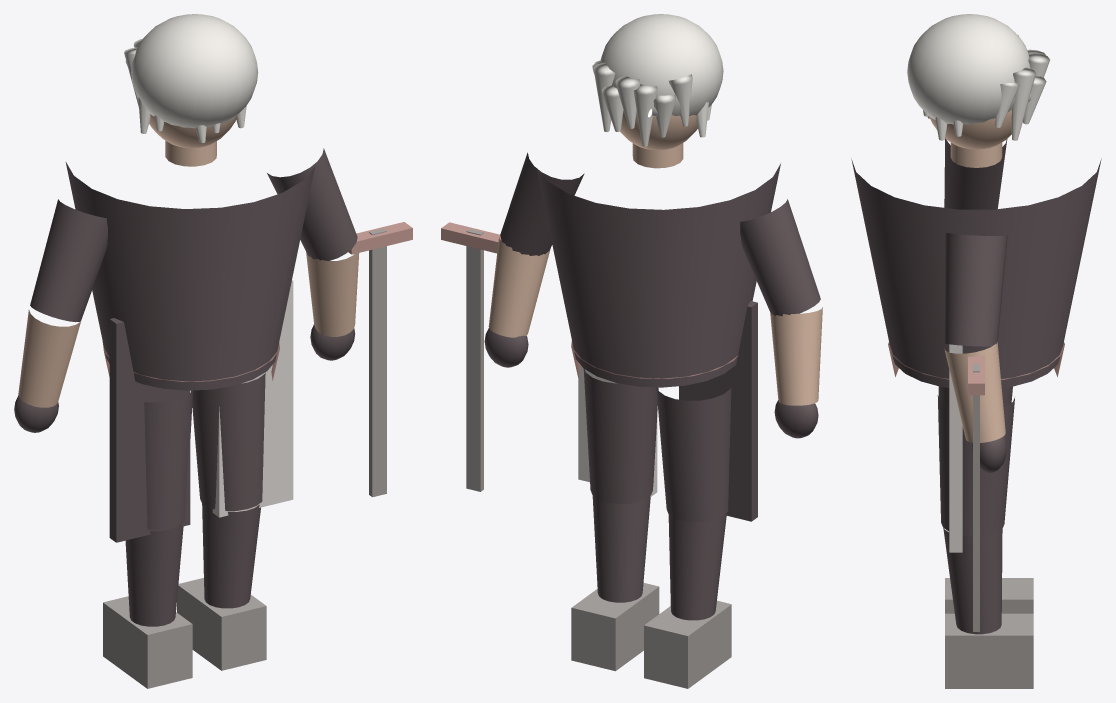
File: elaine-procedural-v1.glb
3 views of the same model, side by side, from view 1: azimuth 30°, elevation 25°; view 2: azimuth 150°, elevation 25°; view 3: azimuth 270°, elevation 25° (orthographic). The views are drawn at different scales.
Visible parts, largest first — view 1: Outfit_Torso, Hair_Cap, Outfit_CoatTail_L, Body_Thigh_R, Body_UpperArm_L, Outfit_CoatTail_R, Outfit_Boot_L, Body_Thigh_L, Outfit_Boot_R, Body_Shin_R, Body_Shin_L, Weapon_SwordBlade (+8 smaller); view 2: Outfit_Torso, Body_Thigh_L, Body_Thigh_R, Hair_Cap, Outfit_CoatTail_L, Body_UpperArm_L, Outfit_Boot_L, Outfit_Boot_R, Body_Shin_R, Body_Shin_L, Weapon_SwordBlade, Body_Forearm_L (+14 smaller); view 3: Outfit_Torso, Hair_Cap, Body_UpperArm_R, Outfit_Boot_R, Body_Thigh_R, Body_Shin_R, Body_Forearm_R, Body_UpperArm_L, Outfit_CoatTail_R, Weapon_SwordBlade, Body_Head, Outfit_Boot_L (+8 smaller).
Boxes of the visible parts, x1,y1,x2,y2 form: Outfit_Torso: [65, 162, 315, 390]; Hair_Cap: [131, 14, 258, 128]; Outfit_CoatTail_L: [109, 318, 190, 542]; Body_Thigh_R: [191, 372, 265, 510]; Body_UpperArm_L: [30, 199, 107, 322]; Outfit_CoatTail_R: [212, 280, 293, 517]; Outfit_Boot_L: [103, 596, 192, 688]; Body_Thigh_L: [144, 390, 192, 529]; Outfit_Boot_R: [177, 578, 266, 670]; Body_Shin_R: [202, 503, 260, 608]; Body_Shin_L: [125, 523, 183, 626]; Weapon_SwordBlade: [369, 228, 386, 497]; Outfit_Torso: [536, 163, 780, 387]; Body_Thigh_L: [656, 387, 731, 522]; Body_Thigh_R: [583, 369, 658, 503]; Hair_Cap: [600, 14, 723, 115]; Outfit_CoatTail_L: [679, 301, 757, 521]; Body_UpperArm_L: [740, 199, 820, 316]; Outfit_Boot_L: [644, 600, 731, 688]; Outfit_Boot_R: [571, 583, 659, 671]; Body_Shin_R: [592, 495, 650, 602]; Body_Shin_L: [668, 514, 726, 620]; Weapon_SwordBlade: [466, 229, 483, 491]; Body_Forearm_L: [770, 307, 822, 405]; Outfit_Torso: [851, 158, 1101, 387]; Hair_Cap: [907, 14, 1030, 124]; Body_UpperArm_R: [944, 232, 1007, 346]; Outfit_Boot_R: [945, 613, 1033, 688]; Body_Thigh_R: [937, 395, 1014, 536]; Body_Shin_R: [943, 528, 1002, 634]; Body_Forearm_R: [944, 341, 1005, 442]; Body_UpperArm_L: [944, 138, 1007, 209]; Outfit_CoatTail_R: [949, 344, 962, 552]; Weapon_SwordBlade: [973, 364, 979, 631]; Body_Head: [929, 109, 1011, 149]; Outfit_Boot_L: [945, 578, 1033, 613].
Bounding box in the file's own units: 1.19 × 1.89 × 0.6724.
